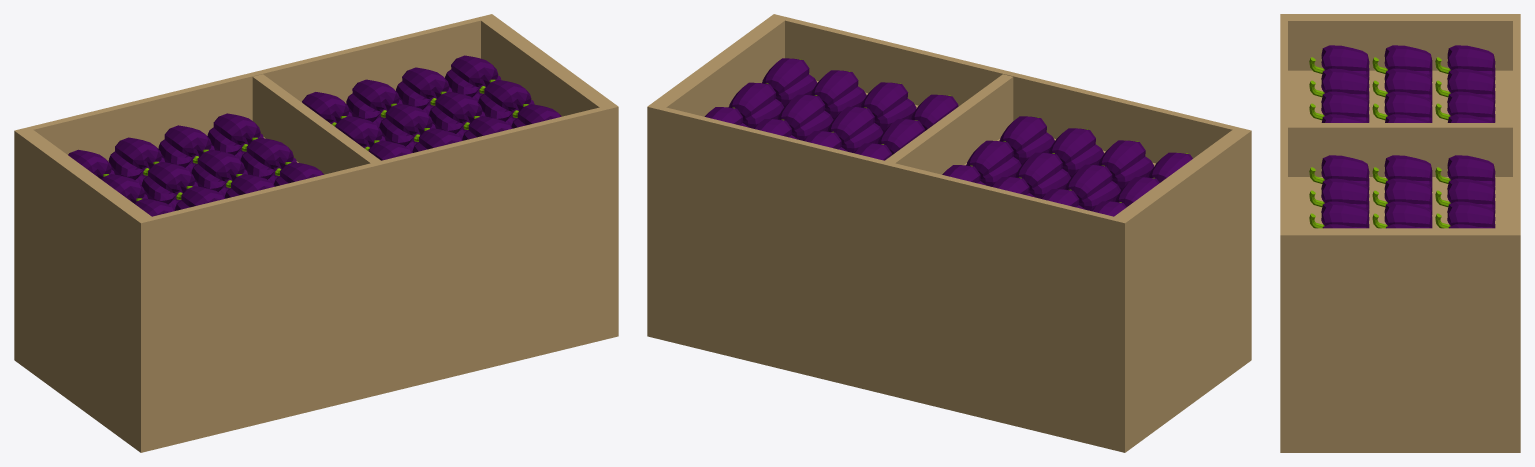
The model's file is purple_pepper_box.gltf.
3 renders of one model, left to right at view 1: azimuth 30°, elevation 25°; view 2: azimuth 150°, elevation 25°; view 3: azimuth 270°, elevation 25°, orthographic. The views are drawn at different scales.
Visible parts, largest first — view 1: Cube.003; view 2: Cube.003; view 3: Cube.003.
Part boxes in pixels (box(x1,y1,x2,y2)): Cube.003: box(14, 14, 618, 452); Cube.003: box(647, 14, 1251, 452); Cube.003: box(1280, 14, 1520, 452).
Size of the model in its own units: 9.22 by 4.23 by 4.23.
